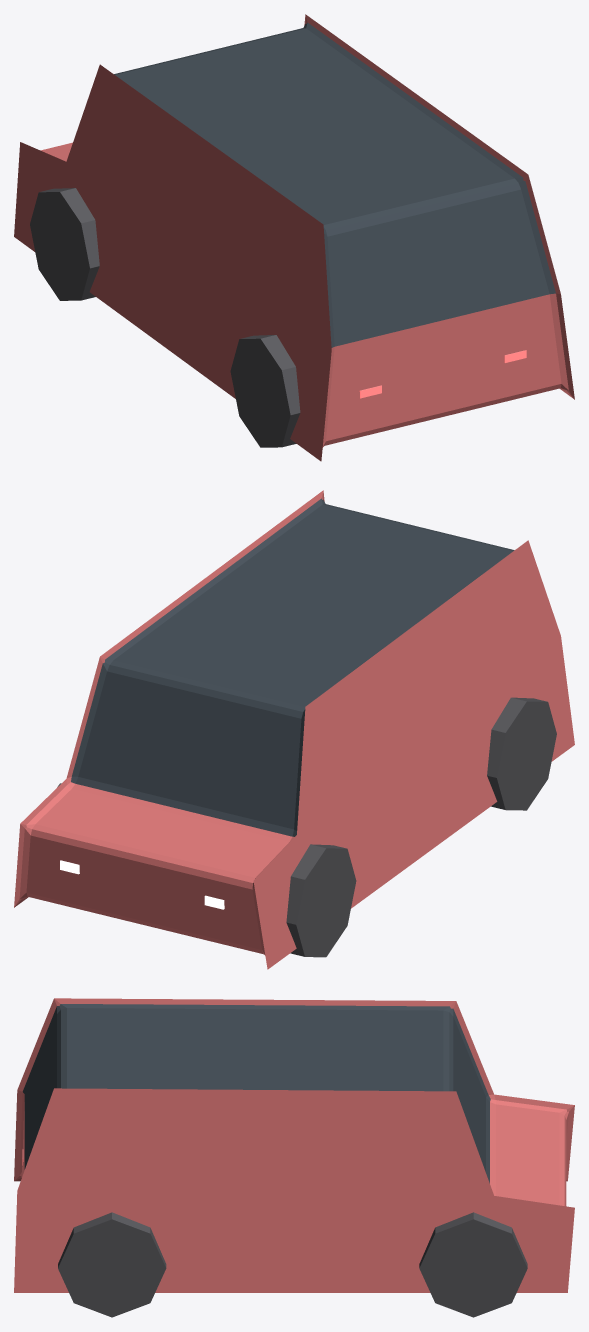
The model's file is car_4_van.glb.
3 views of the same model, one above another, from view 1: azimuth 30°, elevation 25°; view 2: azimuth 150°, elevation 25°; view 3: azimuth 270°, elevation 25° (orthographic). The views are drawn at different scales.
Visible parts, largest first — view 1: car_4_van_body, Arch, Arch.002; view 2: car_4_van_body, Arch.002, Arch; view 3: car_4_van_body, Arch.001, Arch.003.
Part boxes in pixels (x1,y1,x2,y2): car_4_van_body: (14, 14, 574, 461); Arch: (30, 188, 99, 300); Arch.002: (230, 335, 300, 447); car_4_van_body: (14, 490, 574, 969); Arch.002: (487, 697, 556, 810); Arch: (286, 844, 356, 957); car_4_van_body: (14, 998, 574, 1292); Arch.001: (419, 1212, 527, 1317); Arch.003: (58, 1212, 166, 1317).
Size of the model in its own units: 1.84 by 1.58 by 3.73.
